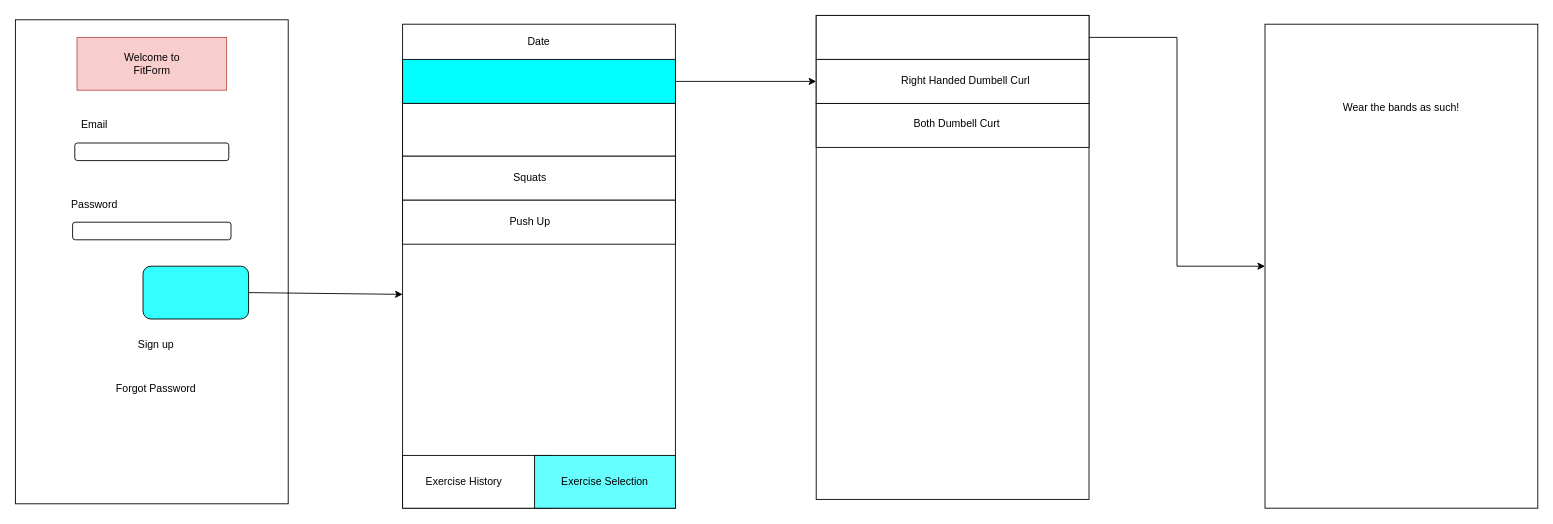
The diagram is 1553 pixels wide and 524 high, and some of its shapes have lost their labels. Each missing label, with the box of its shape:
Dumbell Curl: (402, 59, 675, 103)
Left Handed Dumbell Curlt: (815, 15, 1089, 59)
Login: (142, 265, 249, 319)
Sit up: (402, 103, 675, 156)
